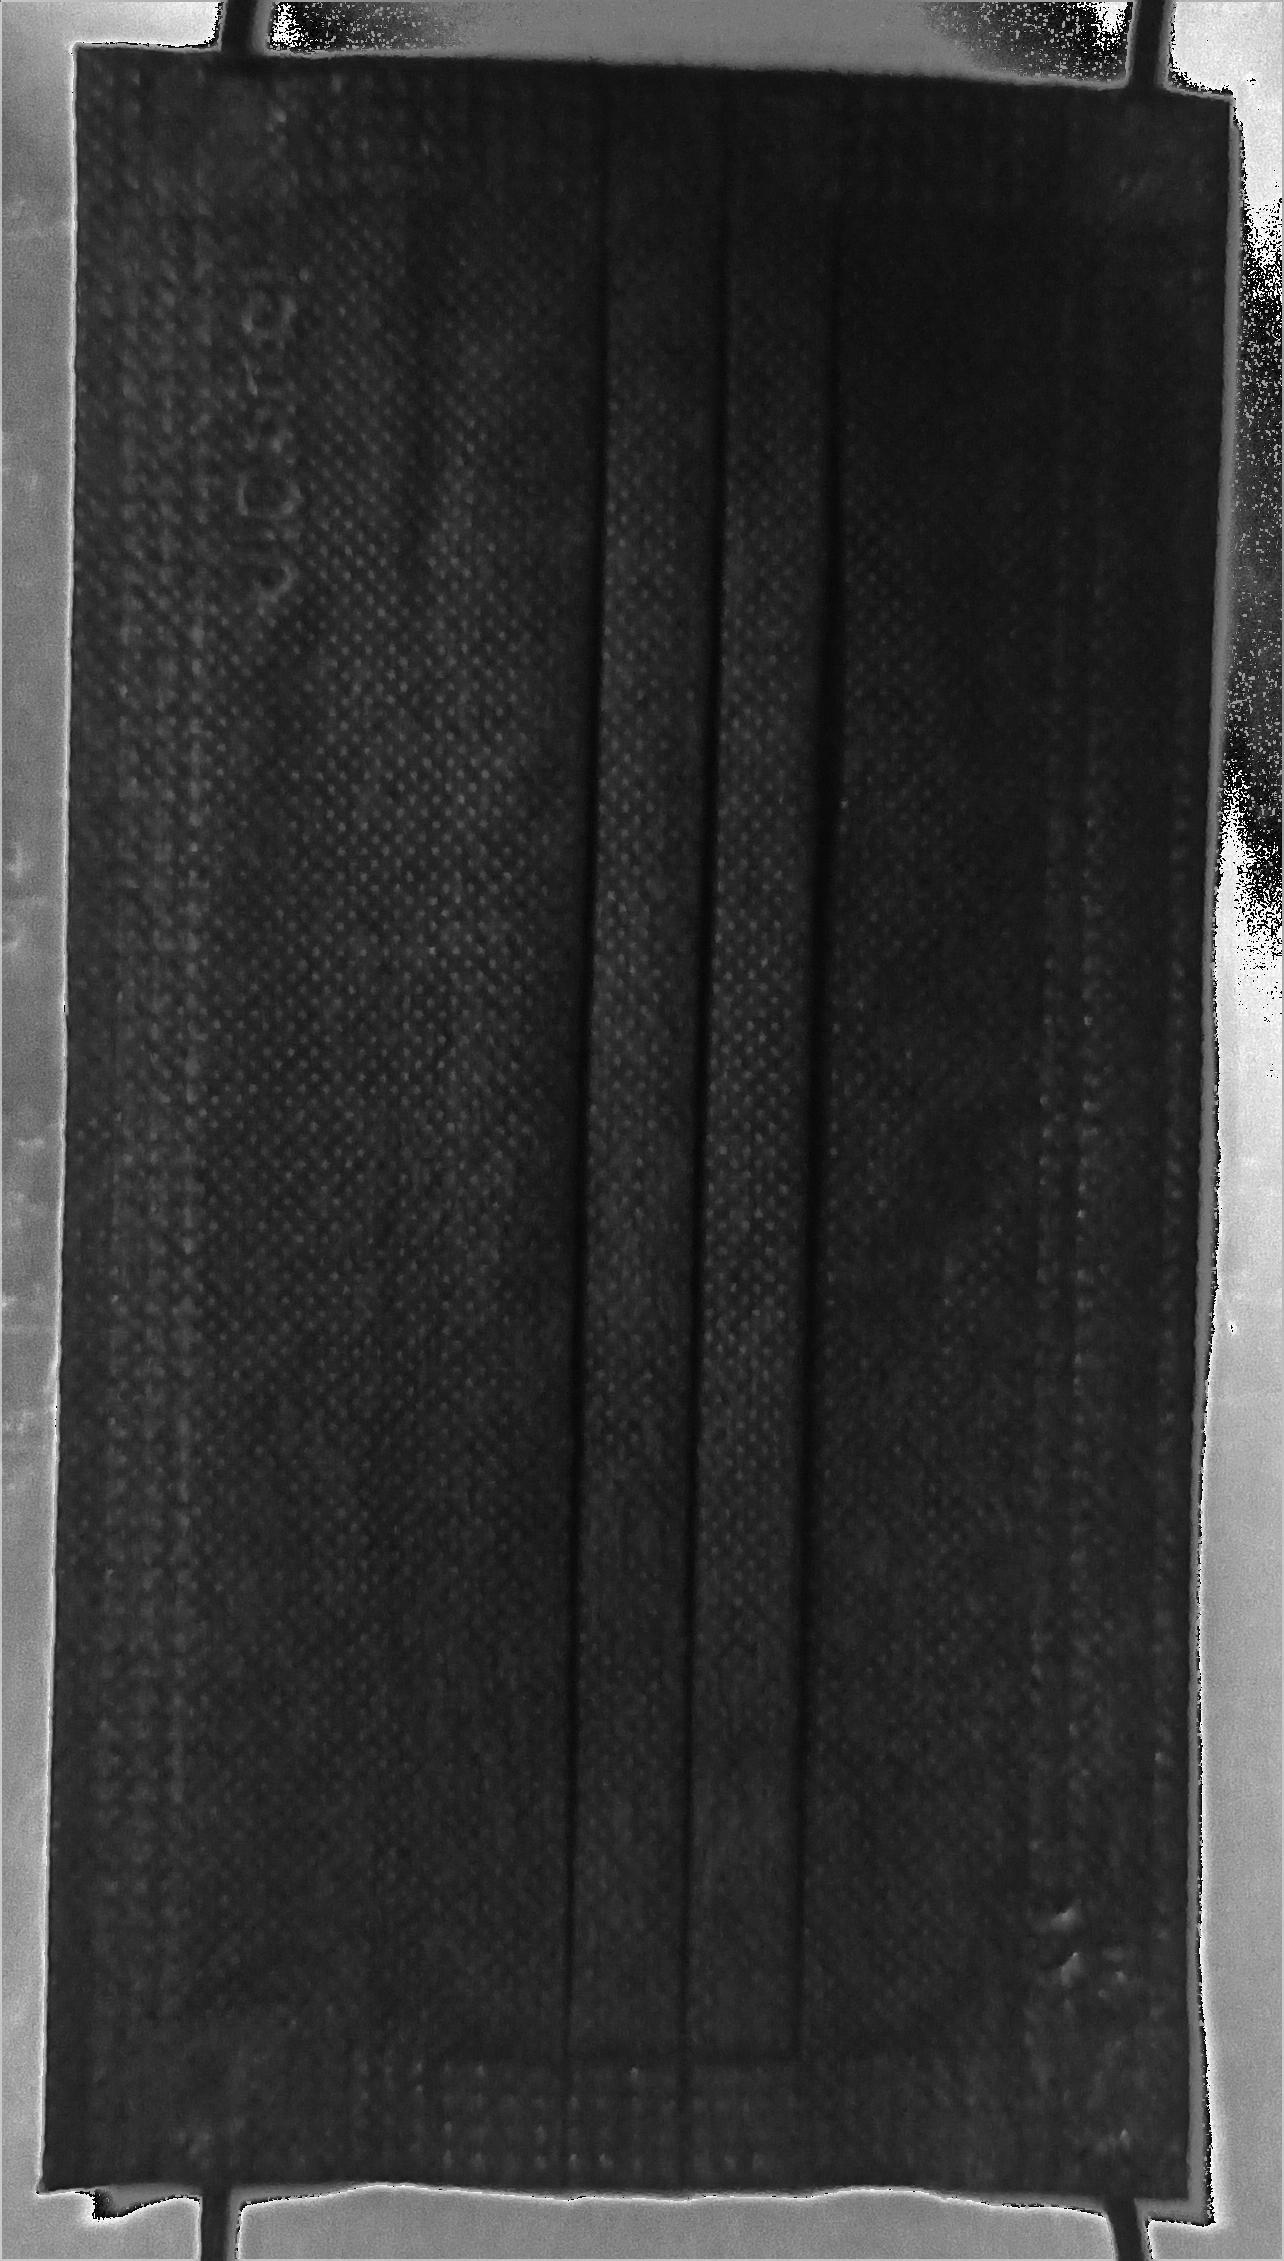Low GSM: (247, 239, 987, 2014)
